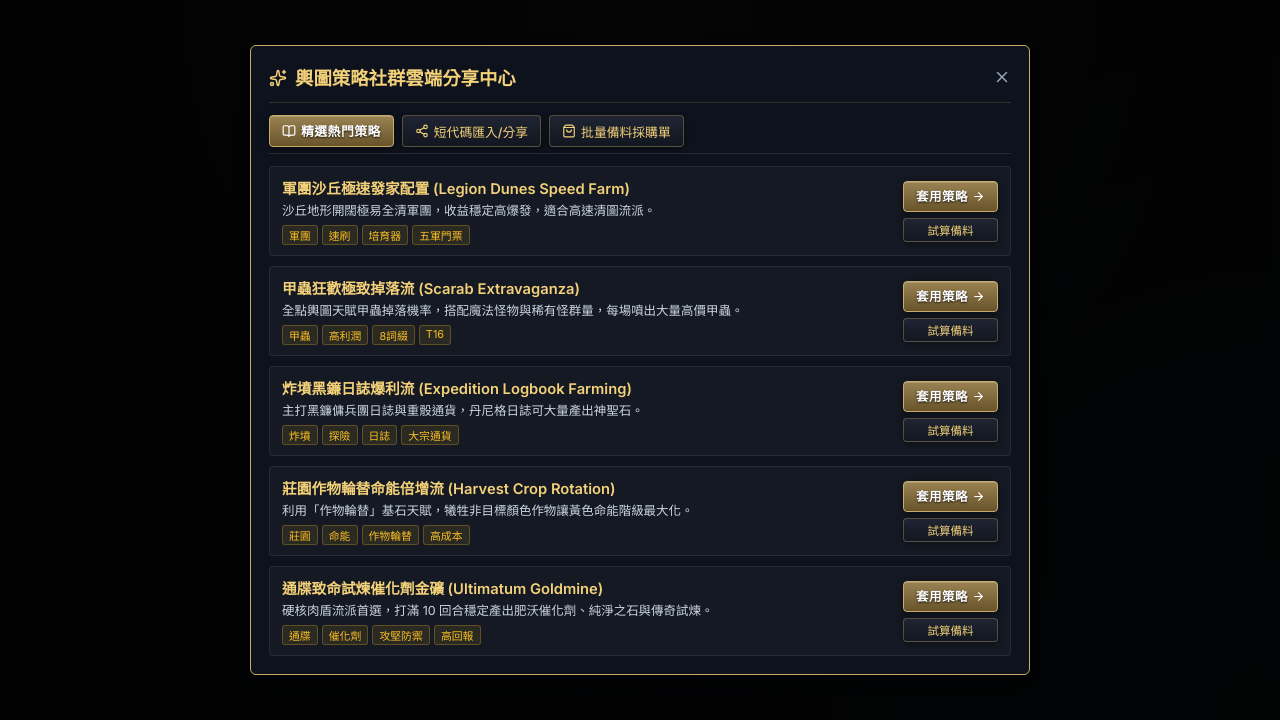
it: AtlasCommunityHubModal Component (Issue #93) › displays error on invalid share code
Click the button "短代碼匯入/分享" at (471, 131), box [402, 115, 541, 147]
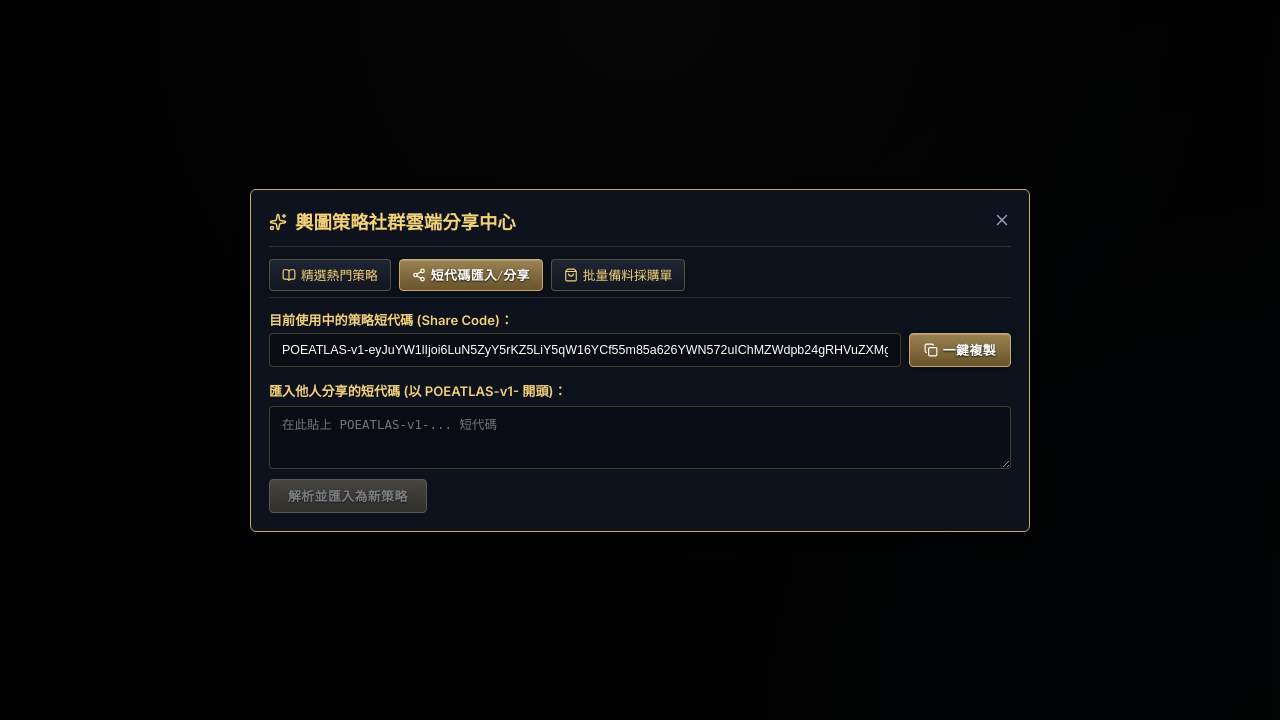
Type "BAD-CODE-123" into the text box with placeholder "在此貼上 POEATLAS-v1-... 短代碼" at (640, 437), box [269, 406, 1011, 468]
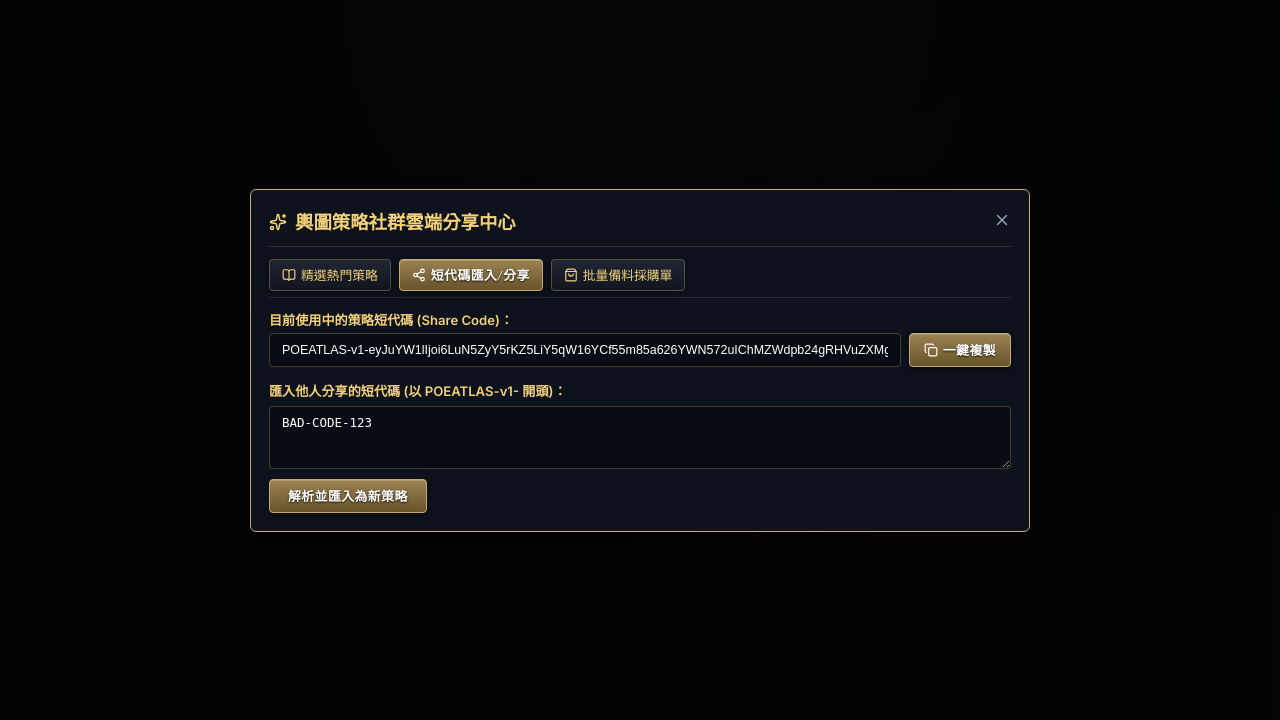
Submit the text "解析並匯入為新策略", box [269, 380, 1011, 512]
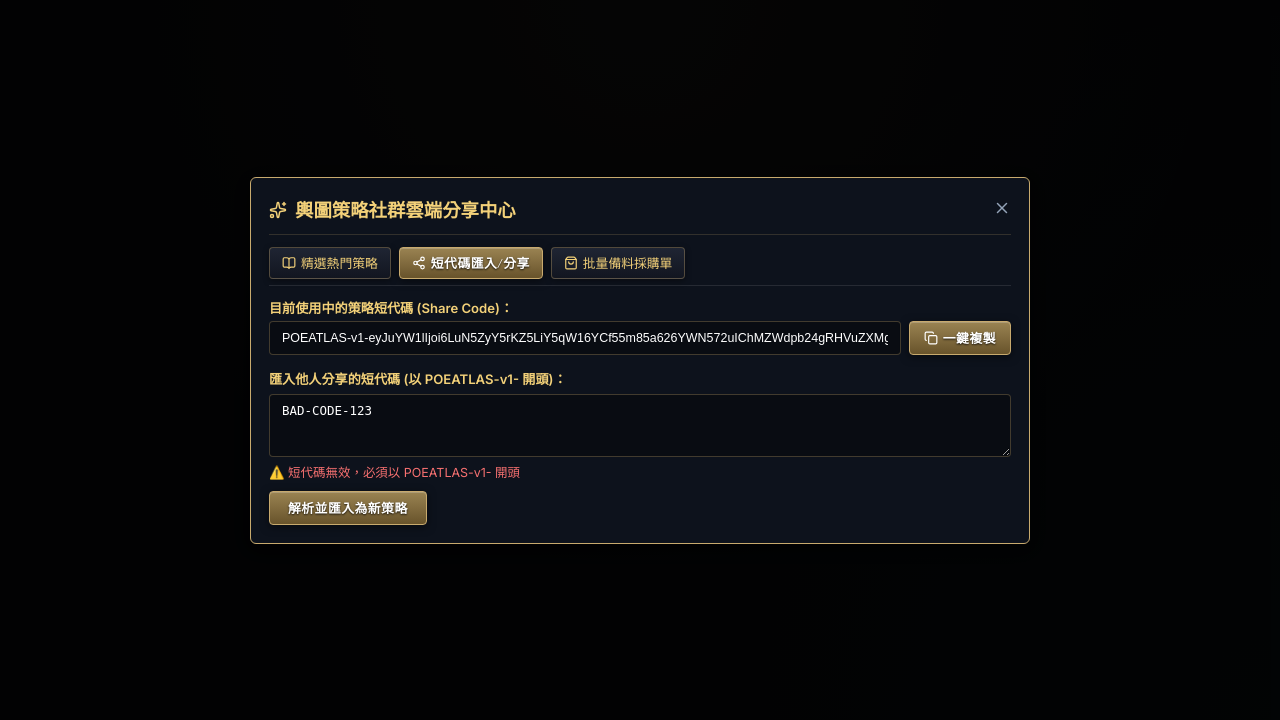
Now the text "⚠️ 短代碼無效，必須以 POEATLAS-v1- 開頭" is shown, box [269, 464, 520, 480]
